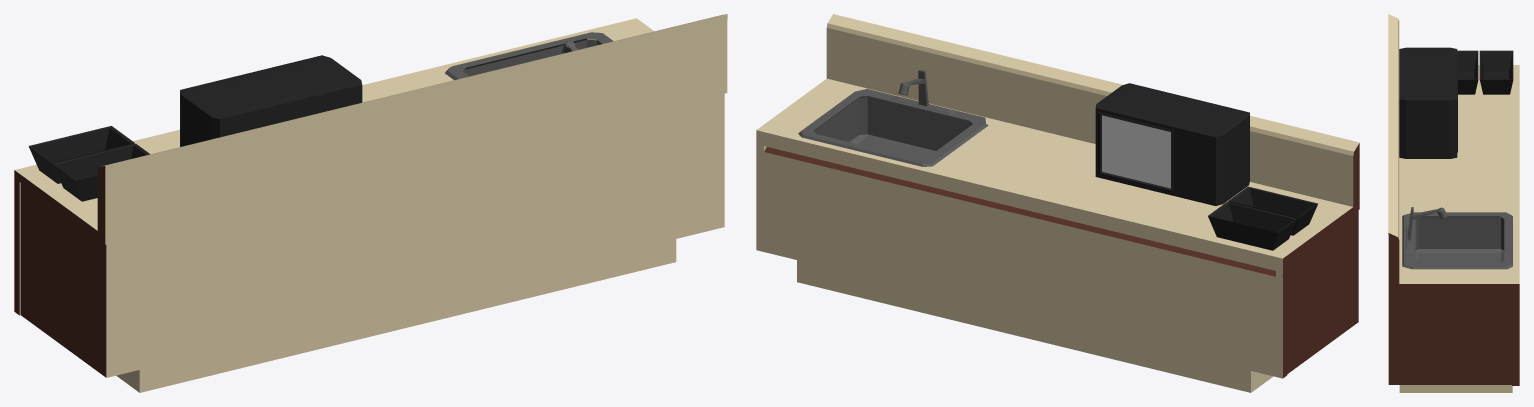
The model's file is BLS_BreakSink_Shanna.fbx.
3 renders of one model, left to right at view 1: azimuth 30°, elevation 25°; view 2: azimuth 150°, elevation 25°; view 3: azimuth 270°, elevation 25°, orthographic. The views are drawn at different scales.
Visible parts, largest first — view 1: Cube.001; view 2: Cube.001; view 3: Cube.001.
Boxes of the visible parts, bbox=[...] form: Cube.001: bbox=[14, 14, 727, 392]; Cube.001: bbox=[756, 14, 1359, 392]; Cube.001: bbox=[1388, 14, 1519, 392].
Size of the model in its own units: 2224 by 870 by 563.
